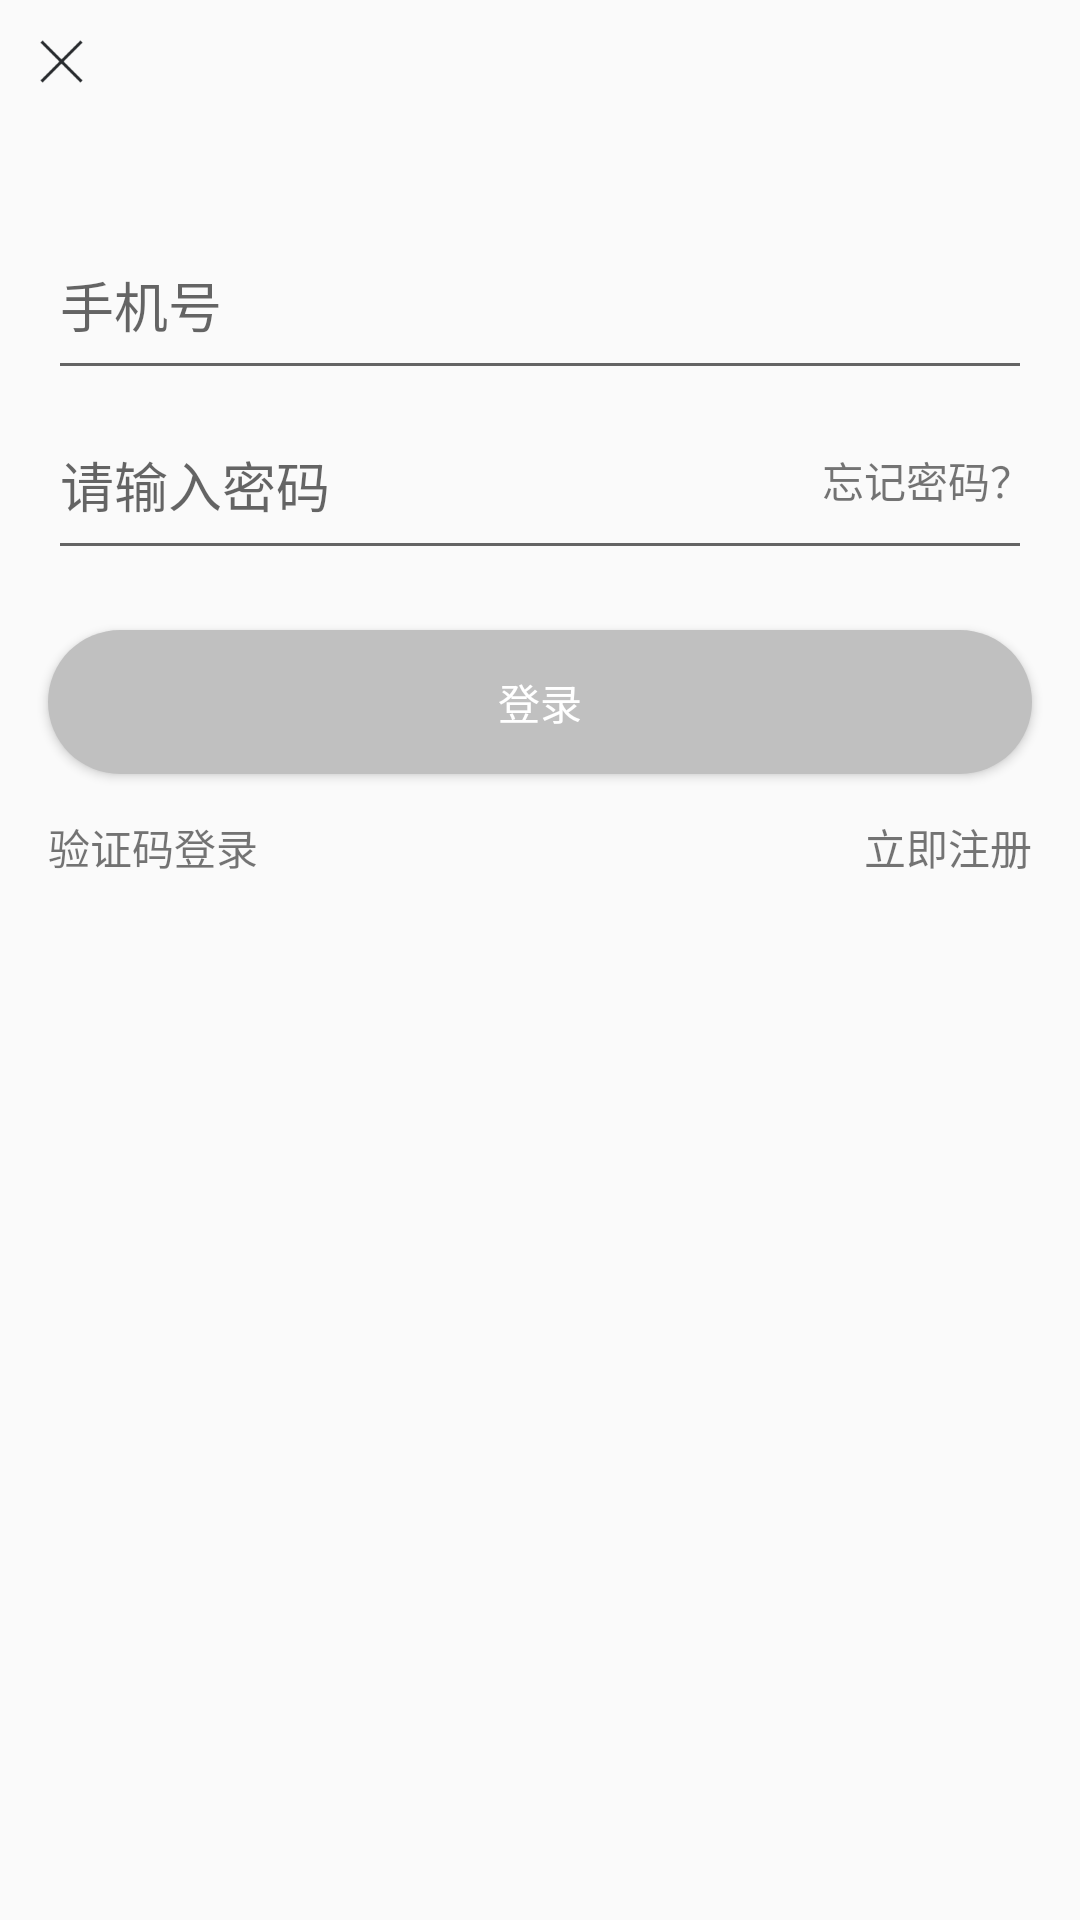

Icon bounding boxes for this 1080px x 1920px phone screenshot, format (x1, y1, x2, y2):
close: (40, 40, 83, 83)
